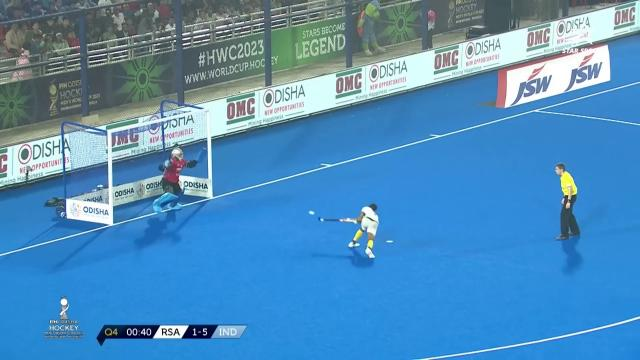ball: (305, 206, 320, 221)
